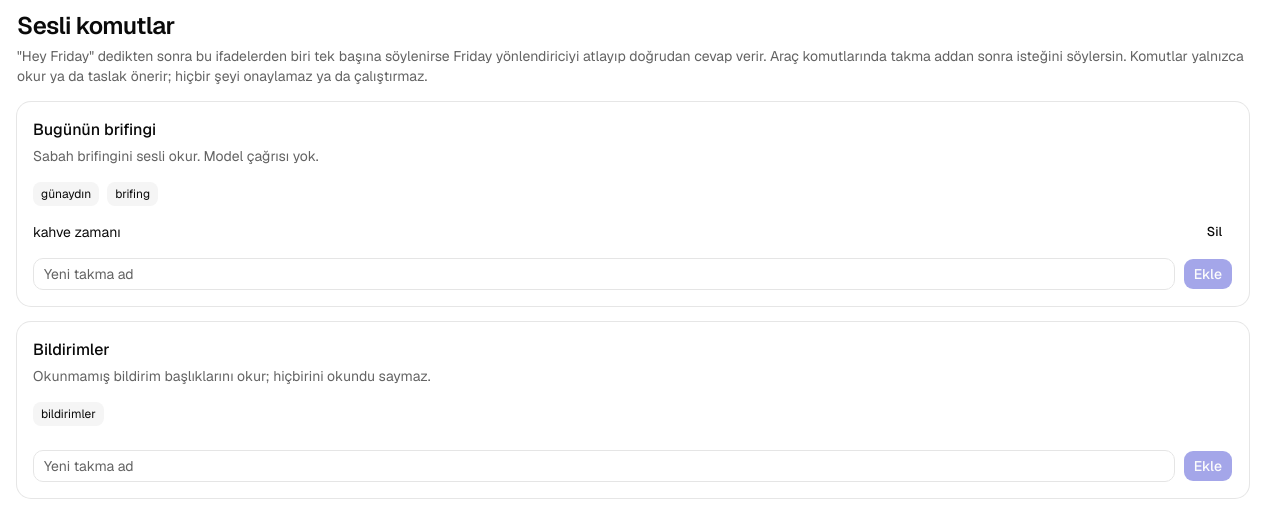
Test: WakeRoutesSettings › deletes an alias
Click the button with aria-label "kahve zamanı takma adını sil". click: (1214,232)
box: top-left (1196, 218), bottom-right (1233, 246)
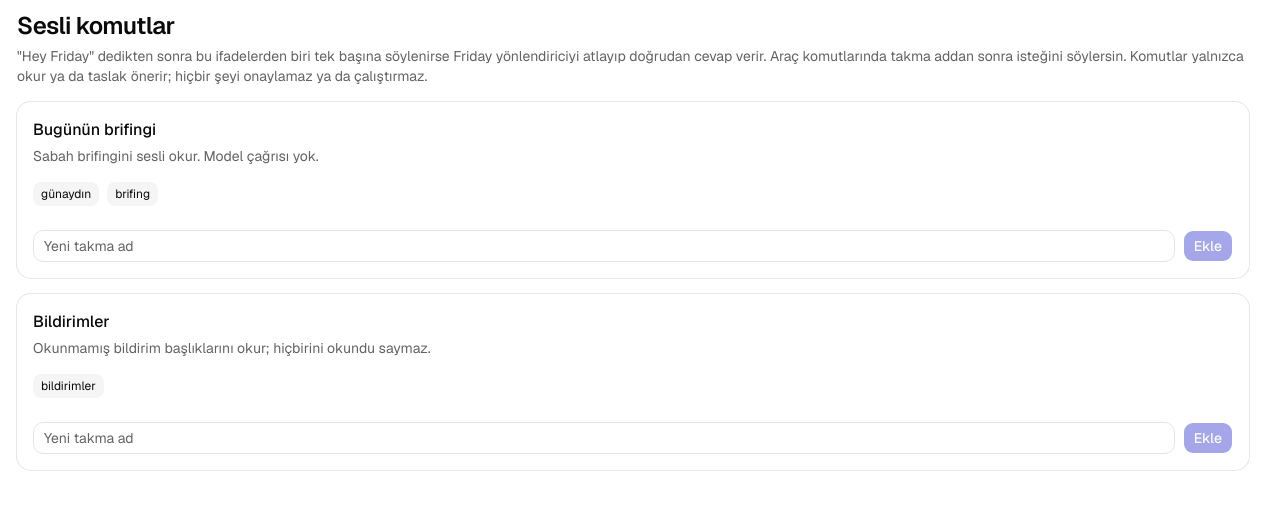
Check: the text "kahve zamanı" is gone
